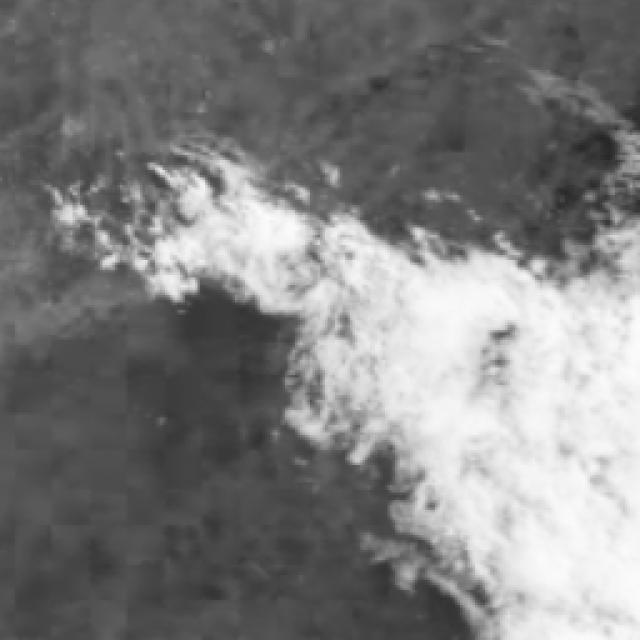CB: (522, 305, 640, 637)
